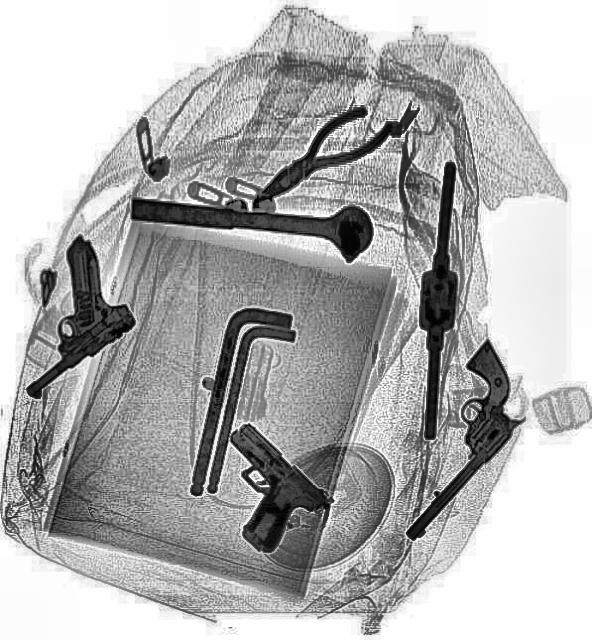Gun: (352, 337, 550, 545), (183, 416, 330, 560), (0, 234, 140, 374)
Pliers: (244, 91, 397, 220)
